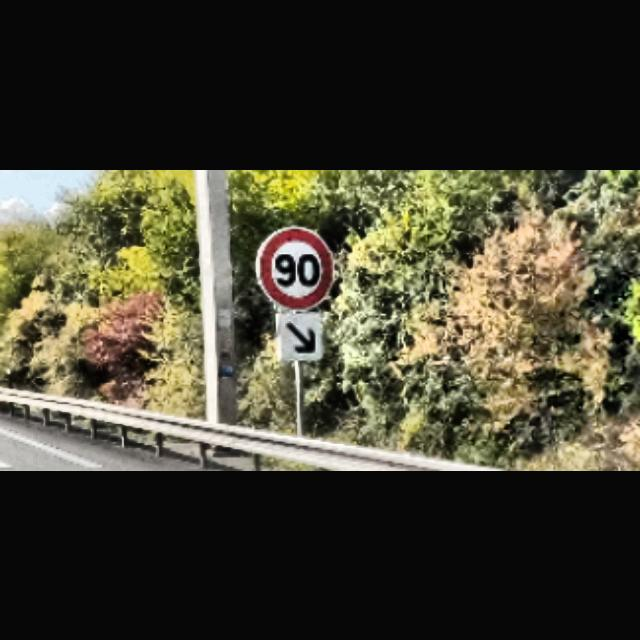speed_90: (255, 224, 335, 308)
